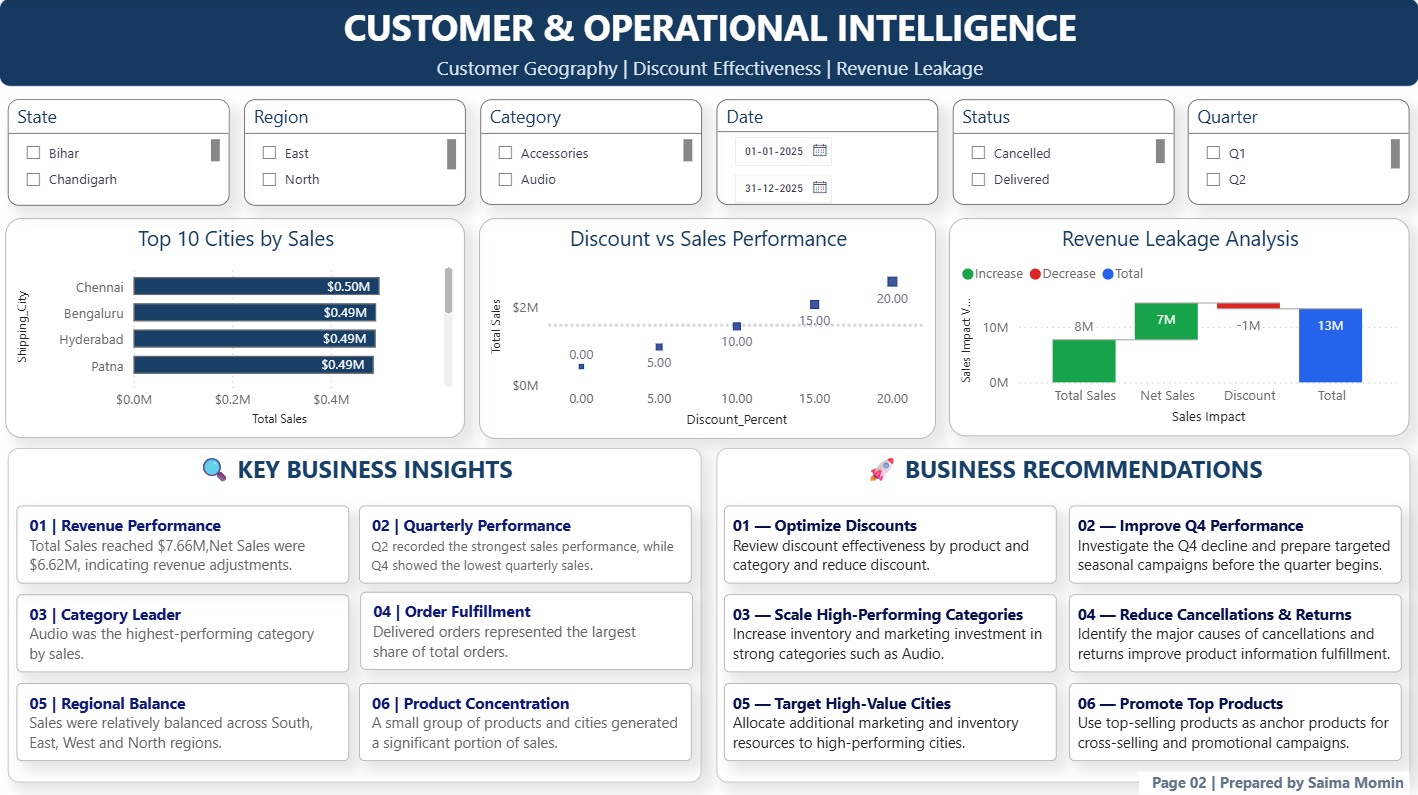

This screenshot's page, from the dashboard's own definition file:
{"tool":"powerbi","page":{"name":"Page 2","canvas":[1280,720],"ordinal":1},"visuals":[{"type":"scatterChart","title":"Discount vs Sales Performance","fields":{"Y":["Measures .Total Sales"],"Size":["Measures .Total Quantity"],"X":["Order_details.Discount_Percent"]},"box":[432.8,198.1,412.1,199.3],"z":0},{"type":"waterfallChart","title":"Revenue Leakage Analysis","fields":{"Y":["Measures .Sales Impact Value"],"Category":["Sales Impact.Sales Impact"]},"box":[857.1,198.7,415.4,197],"z":1000},{"type":"barChart","title":"Top 10 Cities by Sales","fields":{"Category":["Orders.Shipping_City"],"Y":["Measures .Total Sales"]},"box":[6.1,198.1,414.5,198.1],"z":2000},{"type":"textbox","title":"CUSTOMER & OPERATIONAL INTELLIGENCE","box":[0,0,1280.7,80],"z":3000},{"type":"slicer","title":"Date","fields":{"Values":["Datetable.Date"]},"box":[646.8,91.8,200,95],"z":4000},{"type":"slicer","title":"Category ","fields":{"Values":["Categories.Category_Name"]},"box":[433.8,91.8,200.3,95.2],"z":5000},{"type":"slicer","title":"Region","fields":{"Values":["Orders.Shipping_Region"]},"box":[220.8,91.8,200.3,96.1],"z":6000},{"type":"slicer","title":"Status","fields":{"Values":["Orders.Order_Status"]},"box":[859.5,91.8,200.3,95.2],"z":7000},{"type":"slicer","title":"Quarter","fields":{"Values":["Datetable.Quarter"]},"box":[1072.4,91.8,200,95.2],"z":8000},{"type":"slicer","title":"State","fields":{"Values":["Orders.Shipping_State"]},"box":[7.8,91.8,200.3,96.1],"z":9000},{"type":"textbox","title":"🔍 KEY BUSINESS INSIGHTS","box":[8.1,405.5,625.3,301.3],"z":10000},{"type":"textbox","title":"🚀 BUSINESS RECOMMENDATIONS","box":[646.5,405.5,625.3,301.3],"z":11000},{"type":"textbox","box":[16.3,537.4,299.6,70],"z":12000},{"type":"textbox","box":[16.3,457.6,300,70],"z":13000},{"type":"textbox","box":[325,457.9,300,70],"z":14000},{"type":"textbox","box":[325.7,535.8,299.6,70],"z":15000},{"type":"textbox","box":[16.3,617.2,300,70],"z":16000},{"type":"textbox","box":[325,617.5,300,70],"z":17000},{"type":"textbox","box":[654,457.6,299.6,70],"z":18000},{"type":"textbox","box":[964.5,457.6,299.6,70],"z":19000},{"type":"textbox","box":[654,537.4,299.6,70],"z":20000},{"type":"textbox","box":[964.5,537.4,299.6,70],"z":21000},{"type":"textbox","box":[654,617.2,299.6,70],"z":22000},{"type":"textbox","box":[964.5,617.2,299.6,70],"z":23000},{"type":"textbox","title":"Page 02 | Prepared by Saima Momin","box":[1028,697.3,243.8,20.5],"z":24000}]}

Visuals, with their boxes in screenshot pixels (x1, y1, x2, y2), scaled from the page's 1280x720 canvas onto the 1418x795 screenshot:
"Discount vs Sales Performance" scatterChart: box=[479, 219, 936, 439]
"Revenue Leakage Analysis" waterfallChart: box=[950, 219, 1410, 437]
"Top 10 Cities by Sales" barChart: box=[7, 219, 466, 437]
"CUSTOMER & OPERATIONAL INTELLIGENCE" textbox: box=[0, 0, 1417, 88]
"Date" slicer: box=[717, 101, 938, 206]
"Category " slicer: box=[481, 101, 702, 206]
"Region" slicer: box=[245, 101, 466, 207]
"Status" slicer: box=[952, 101, 1174, 206]
"Quarter" slicer: box=[1188, 101, 1410, 206]
"State" slicer: box=[9, 101, 231, 207]
"🔍 KEY BUSINESS INSIGHTS" textbox: box=[9, 448, 702, 780]
"🚀 BUSINESS RECOMMENDATIONS" textbox: box=[716, 448, 1409, 780]
textbox: box=[18, 593, 350, 671]
textbox: box=[18, 505, 350, 583]
textbox: box=[360, 506, 692, 583]
textbox: box=[361, 592, 693, 669]
textbox: box=[18, 681, 350, 759]
textbox: box=[360, 682, 692, 759]
textbox: box=[725, 505, 1056, 583]
textbox: box=[1068, 505, 1400, 583]
textbox: box=[725, 593, 1056, 671]
textbox: box=[1068, 593, 1400, 671]
textbox: box=[725, 681, 1056, 759]
textbox: box=[1068, 681, 1400, 759]
"Page 02 | Prepared by Saima Momin" textbox: box=[1139, 770, 1409, 793]
